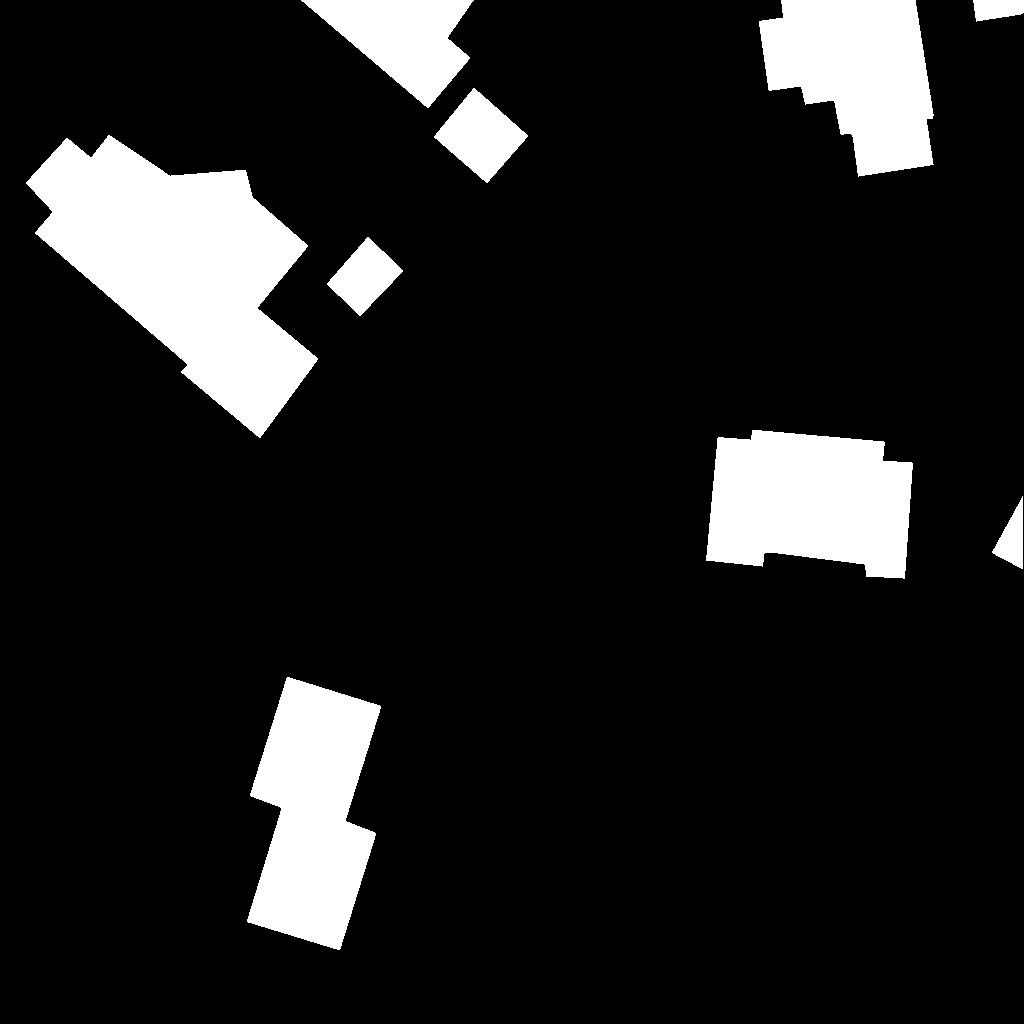building: (26, 135, 319, 439), (759, 0, 1024, 177), (247, 677, 382, 951), (706, 430, 914, 579), (301, 0, 475, 109), (434, 88, 529, 184), (327, 237, 404, 317), (992, 496, 1024, 570)
